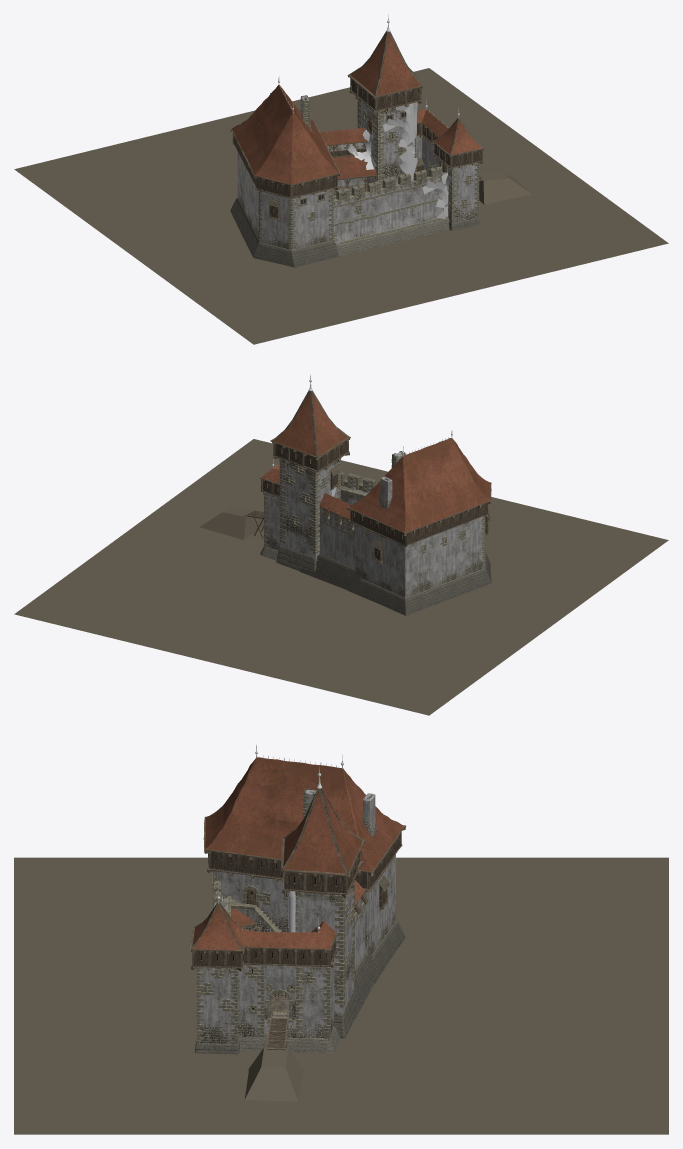
The model's file is Castle.fbx.
3 views of the same model, one above another, from view 1: azimuth 30°, elevation 25°; view 2: azimuth 150°, elevation 25°; view 3: azimuth 270°, elevation 25° (orthographic). The views are drawn at different scales.
Visible parts, largest first — view 1: polySurface1444; view 2: polySurface1444; view 3: polySurface1444.
Part boxes in pixels (x1,y1,x2,y2): polySurface1444: (14,14,668,344); polySurface1444: (14,375,668,715); polySurface1444: (14,745,668,1134).
Bounding box in the file's own units: 80.89 × 80.89 × 38.17.
